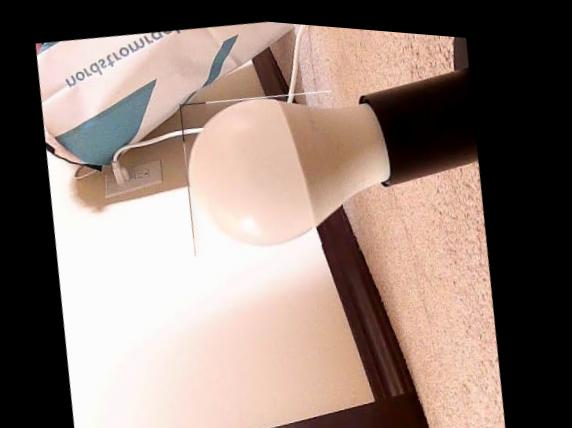Fan: (172, 75, 358, 263)
